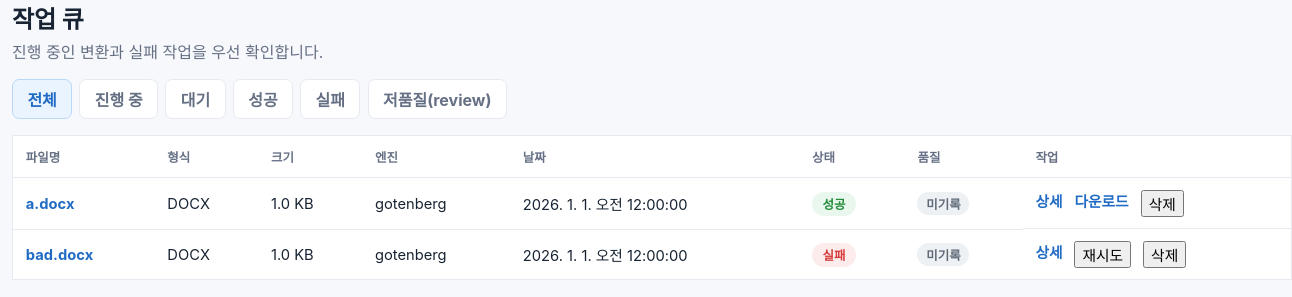
Test case: lists jobs and filters to failed only
Expected: the link "a.docx" is shown, [26,195,74,213]
Click the button "실패".
click(330, 99)  # box [300,79,360,119]
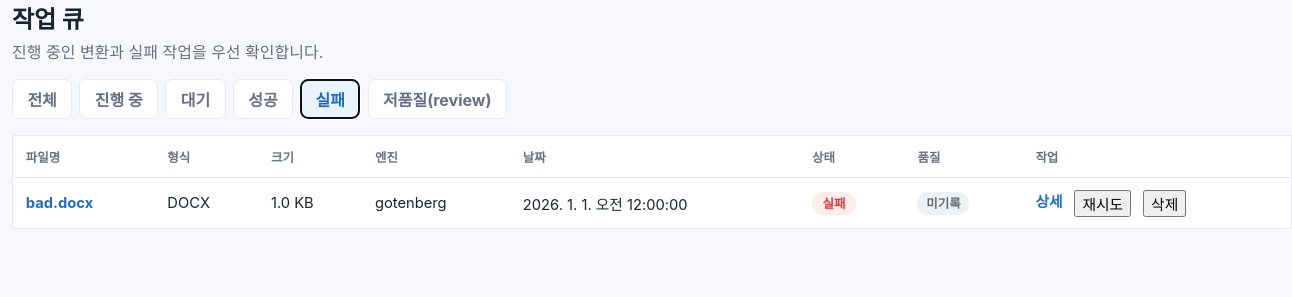
Expected: the link "bad.docx" is shown, [26,194,93,212]
Result: the link "a.docx" is gone
